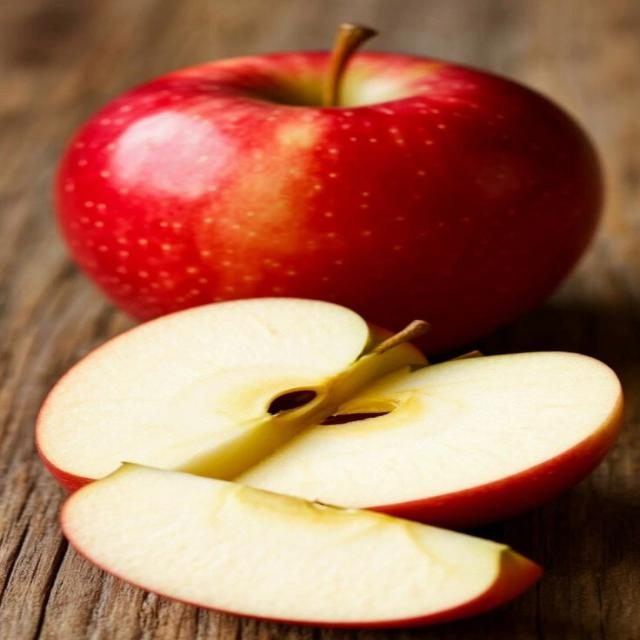apple: (56, 52, 601, 350), (38, 299, 621, 527), (61, 464, 540, 627)
